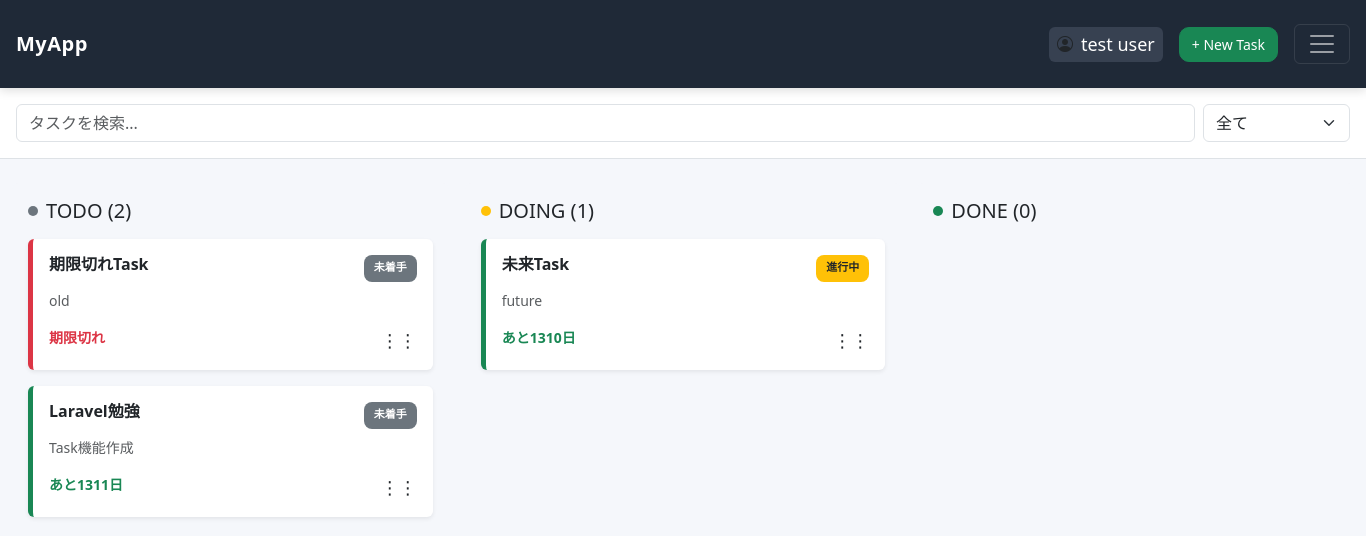
Test: FeatureList › 期限切れフィルタで絞り込める
expect the heading "期限切れTask" is shown: met, box [49, 255, 148, 274]
Select "期限切れ" in the dropdown at (1276, 123), box [1203, 104, 1350, 142]
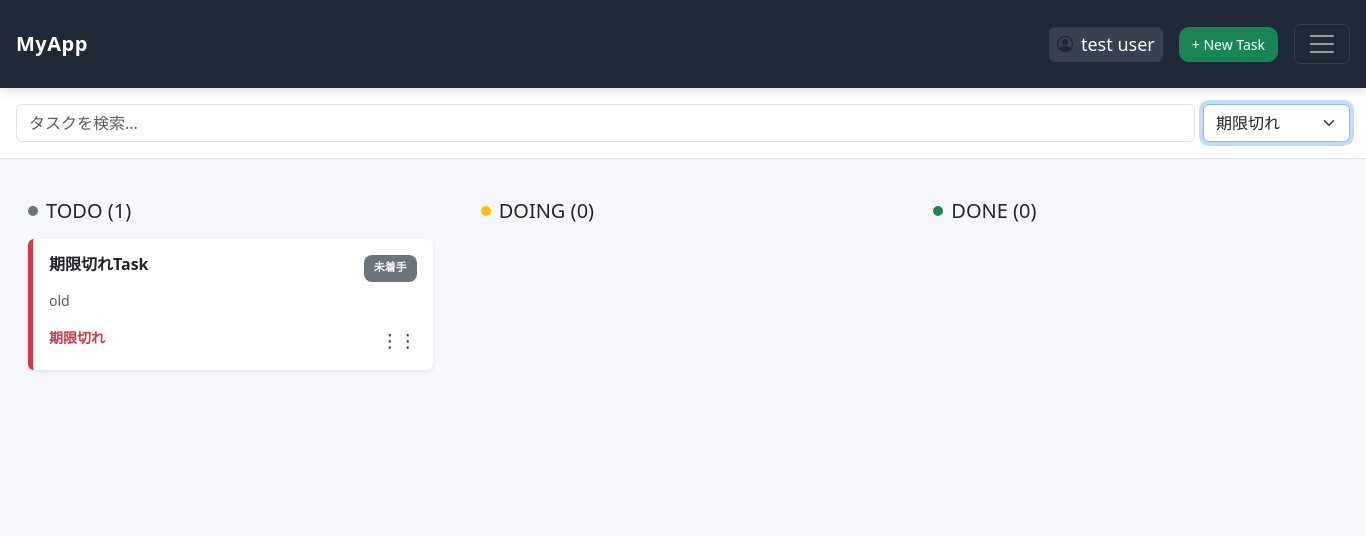
expect the heading "期限切れTask" is shown: met, box [49, 255, 148, 274]
expect the heading "未来Task" is gone: met
expect the heading "Laravel勉強" is gone: met
